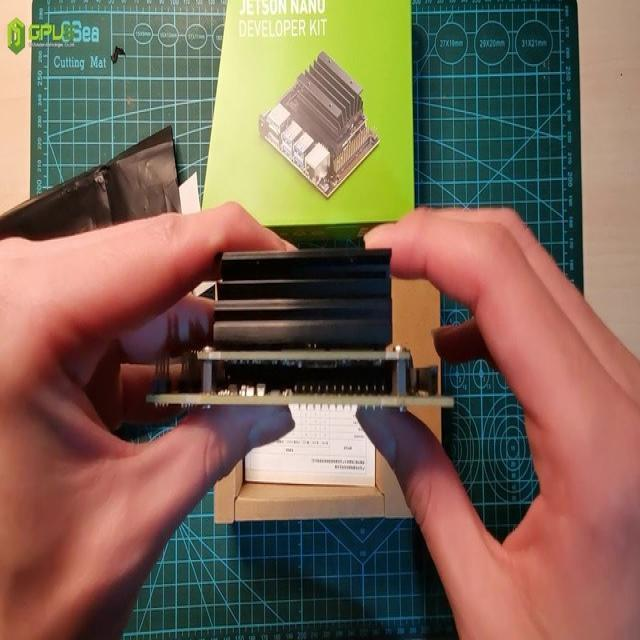Jetson Nano: (150, 249, 455, 408)
